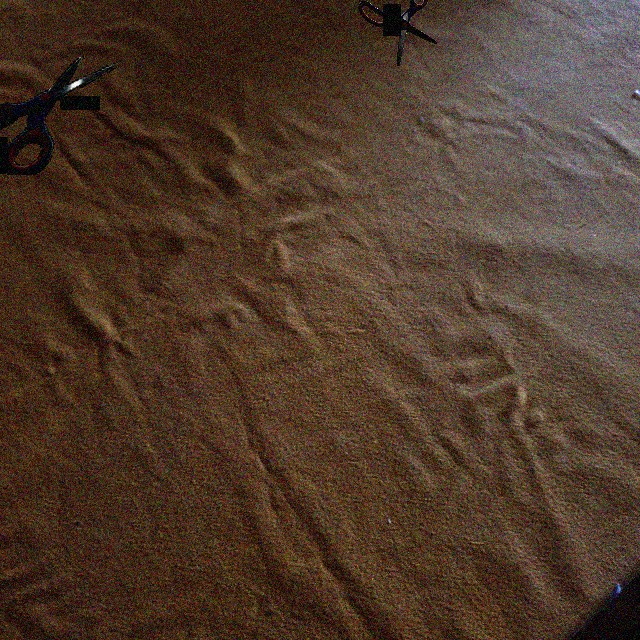scissors: (0, 56, 117, 175), (358, 0, 437, 66)
